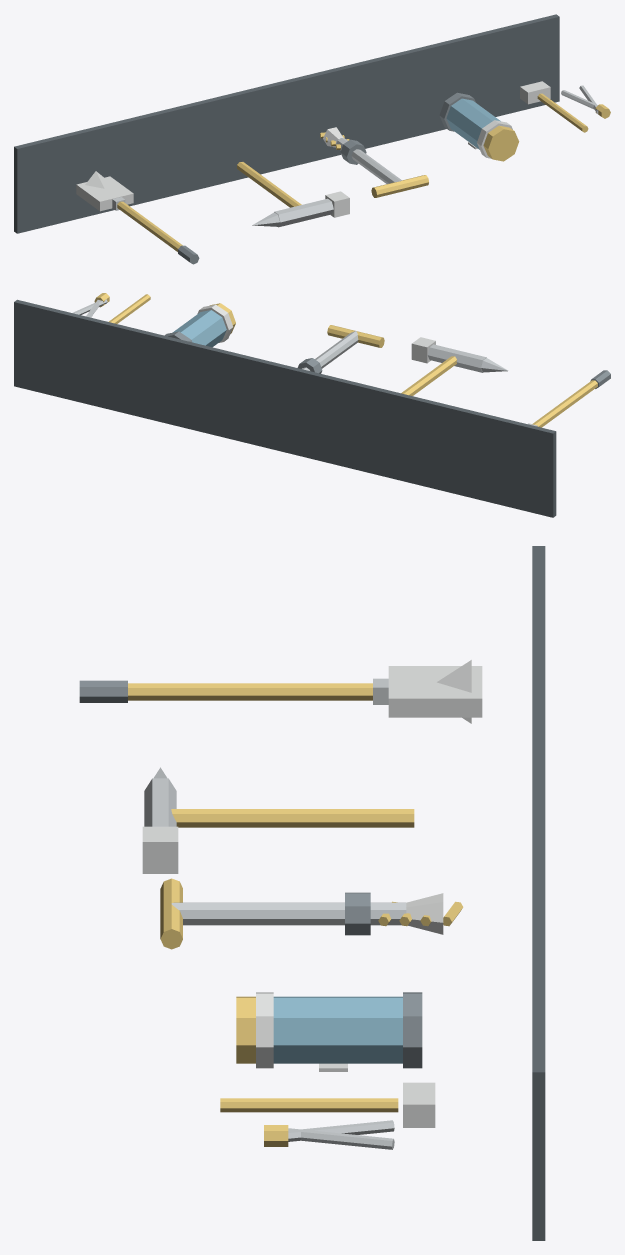
File: HerramientasExtraccion.glb
3 views of the same model, one above another, from view 1: azimuth 30°, elevation 25°; view 2: azimuth 150°, elevation 25°; view 3: azimuth 270°, elevation 25° (orthographic). The views are drawn at different scales.
Visible parts, largest first — view 1: Display_base, Sample_tube, Shovel_blade, Canister_lid, Pick_head, Auger_main_shaft, Pick_handle, Shovel_handle, Auger_T_grip, Scoop_bowl, Scoop_handle, Pick_flat_end (+3 smaller); view 2: Display_base, Sample_tube, Pick_head, Shovel_handle, Auger_main_shaft, Pick_handle, Auger_T_grip, Pick_flat_end, Canister_rim, Scoop_handle; view 3: Display_base, Sample_tube, Auger_main_shaft, Pick_handle, Shovel_blade, Shovel_handle, Scoop_handle, Pick_flat_end, Canister_base, Scoop_bowl, Pick_head, Auger_T_grip (+7 smaller).
Part boxes in pixels (bbox=[...]): Display_base: bbox=[14, 14, 559, 233]; Sample_tube: bbox=[446, 98, 500, 149]; Shovel_blade: bbox=[76, 176, 133, 211]; Canister_lid: bbox=[483, 125, 519, 161]; Pick_head: bbox=[274, 198, 333, 227]; Auger_main_shaft: bbox=[336, 138, 401, 183]; Pick_handle: bbox=[237, 162, 301, 207]; Shovel_handle: bbox=[117, 201, 182, 251]; Auger_T_grip: bbox=[371, 175, 428, 197]; Scoop_bowl: bbox=[520, 81, 550, 104]; Scoop_handle: bbox=[537, 93, 588, 132]; Pick_flat_end: bbox=[325, 191, 349, 217]; Display_base: bbox=[14, 299, 556, 517]; Sample_tube: bbox=[173, 310, 226, 347]; Pick_head: bbox=[427, 344, 486, 372]; Shovel_handle: bbox=[532, 380, 597, 427]; Auger_main_shaft: bbox=[302, 331, 358, 370]; Pick_handle: bbox=[401, 356, 456, 395]; Auger_T_grip: bbox=[327, 325, 384, 347]; Pick_flat_end: bbox=[411, 337, 435, 363]; Canister_rim: bbox=[197, 304, 233, 342]; Scoop_handle: bbox=[108, 294, 150, 323]; Display_base: bbox=[532, 546, 545, 1240]; Sample_tube: bbox=[273, 996, 402, 1063]; Auger_main_shaft: bbox=[171, 902, 406, 925]; Pick_handle: bbox=[171, 809, 414, 827]; Shovel_blade: bbox=[388, 666, 482, 717]; Shovel_handle: bbox=[128, 683, 372, 700]; Scoop_handle: bbox=[220, 1098, 398, 1112]; Pick_flat_end: bbox=[142, 826, 178, 873]; Canister_base: bbox=[403, 992, 422, 1068]; Scoop_bowl: bbox=[403, 1082, 435, 1127]; Pick_head: bbox=[144, 778, 176, 826]; Auger_T_grip: bbox=[160, 878, 182, 949].
Bounding box in the file's own units: 7.7 × 1.15 × 2.88.
